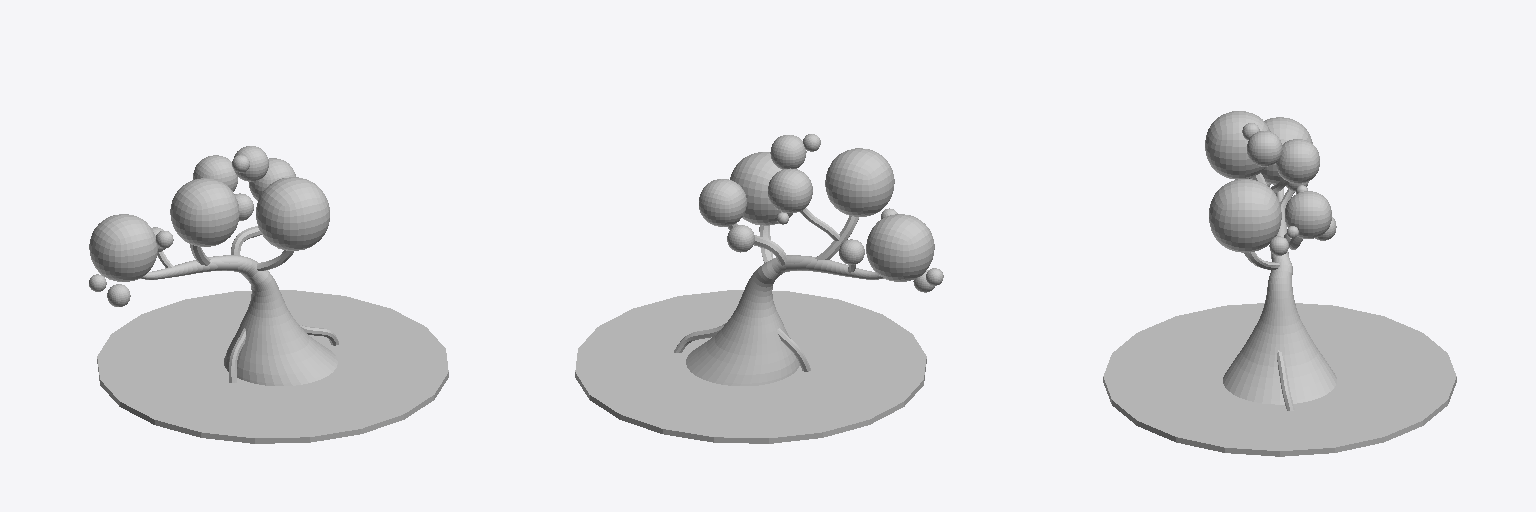
The model's file is bubbletree-02.obj.
3 views of the same model, side by side, from view 1: azimuth 30°, elevation 25°; view 2: azimuth 150°, elevation 25°; view 3: azimuth 270°, elevation 25° (orthographic).
Parts seen in each view (by area): view 1: bubbletree_02; view 2: bubbletree_02; view 3: bubbletree_02.
Boxes of the visible parts, box(x1,y1,x2,y2) form: bubbletree_02: box(89, 146, 448, 443); bubbletree_02: box(575, 134, 943, 443); bubbletree_02: box(1103, 111, 1456, 456).
Bounding box in the file's own units: 4.12 × 2.73 × 3.71.